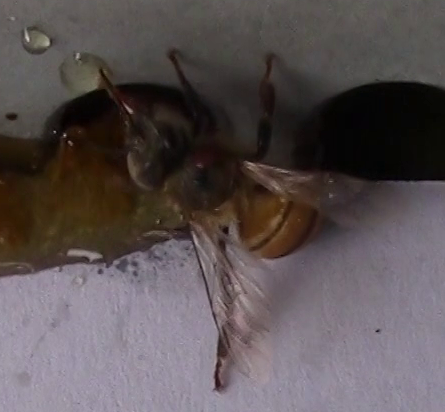Varroa destructor: (189, 141, 222, 169)
